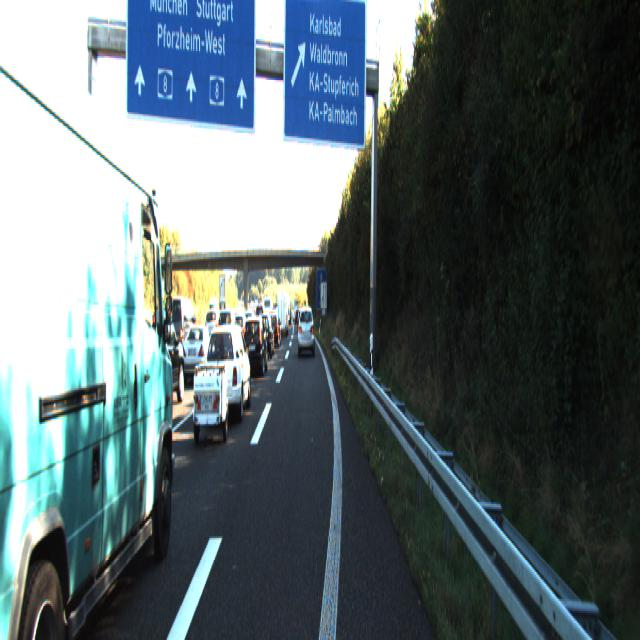Car: (0, 0, 179, 639), (123, 307, 186, 418), (202, 319, 252, 426), (189, 359, 229, 448), (161, 293, 197, 366), (179, 320, 216, 381), (240, 313, 268, 376), (298, 304, 314, 355), (276, 292, 288, 336)
